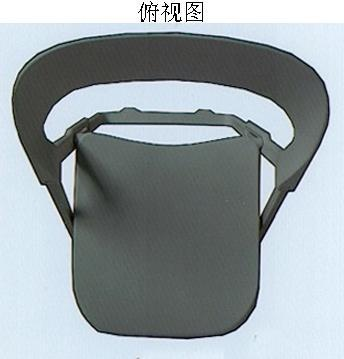obstacle: (12, 33, 328, 337)
